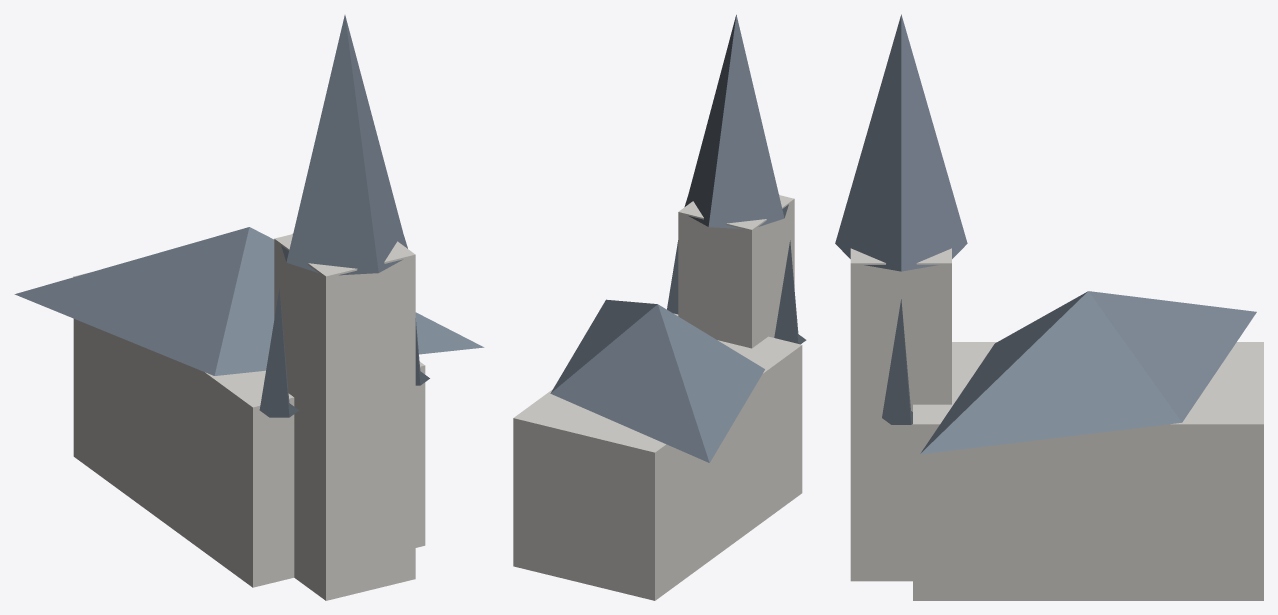
The model's file is la_ermita.fbx.
The picture shows the model from 3 angles, left to right: view 1: azimuth 30°, elevation 25°; view 2: azimuth 150°, elevation 25°; view 3: azimuth 270°, elevation 25°; orthographic projection. The views are drawn at different scales.
Parts seen in each view (by area): view 1: white_02, white, slate, slate_02, slate_03; view 2: white, slate, white_02, slate_02, slate_03, slate_04; view 3: white, slate, white_02, slate_02, slate_04.
Part boxes in pixels (x1,y1,x2,y2): white_02: (274, 234, 415, 600); white: (73, 273, 425, 587); slate: (14, 227, 484, 375); slate_02: (281, 15, 407, 275); slate_03: (259, 288, 298, 417); white: (513, 313, 802, 600); slate: (550, 299, 764, 462); white_02: (678, 195, 794, 348); slate_02: (684, 14, 788, 228); slate_03: (774, 240, 806, 344); slate_04: (667, 240, 678, 314); white: (913, 342, 1263, 600); slate: (920, 291, 1256, 454); white_02: (850, 248, 951, 581); slate_02: (835, 14, 967, 271); slate_04: (882, 299, 912, 424).
Bounding box in the file's own units: 8.65 × 15.45 × 11.
